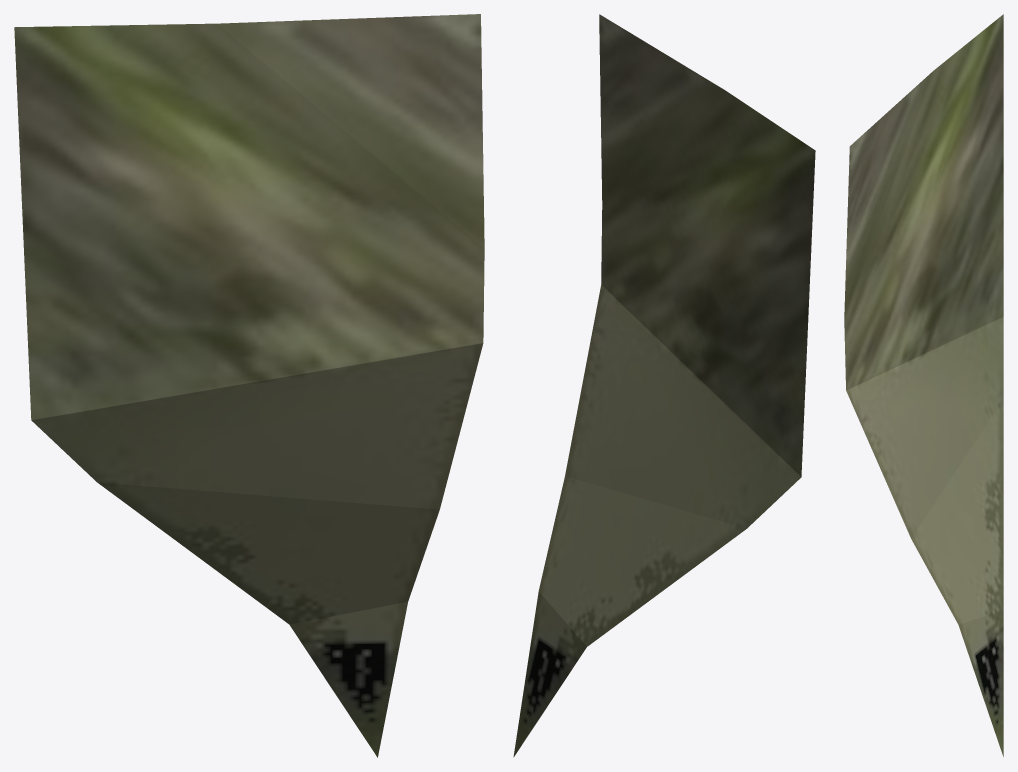
3 views of the same model, side by side, from view 1: azimuth 30°, elevation 25°; view 2: azimuth 150°, elevation 25°; view 3: azimuth 270°, elevation 25° (orthographic). The views are drawn at different scales.
Bounding box in the file's own units: 1.62 × 3.49 × 0.8253.
1 material, 1 textured.
